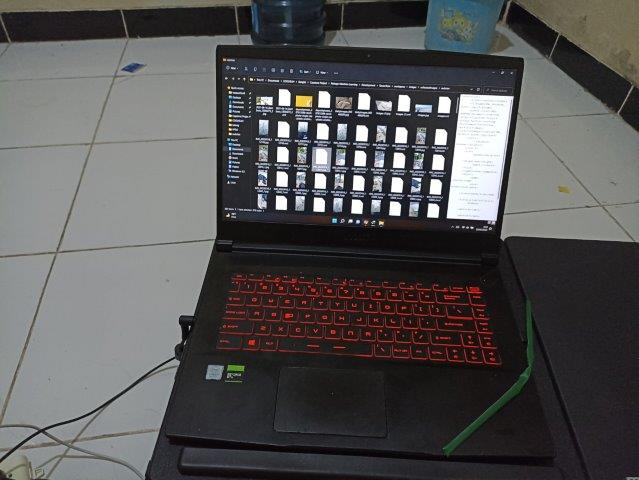sedotan: (445, 301, 533, 455)
